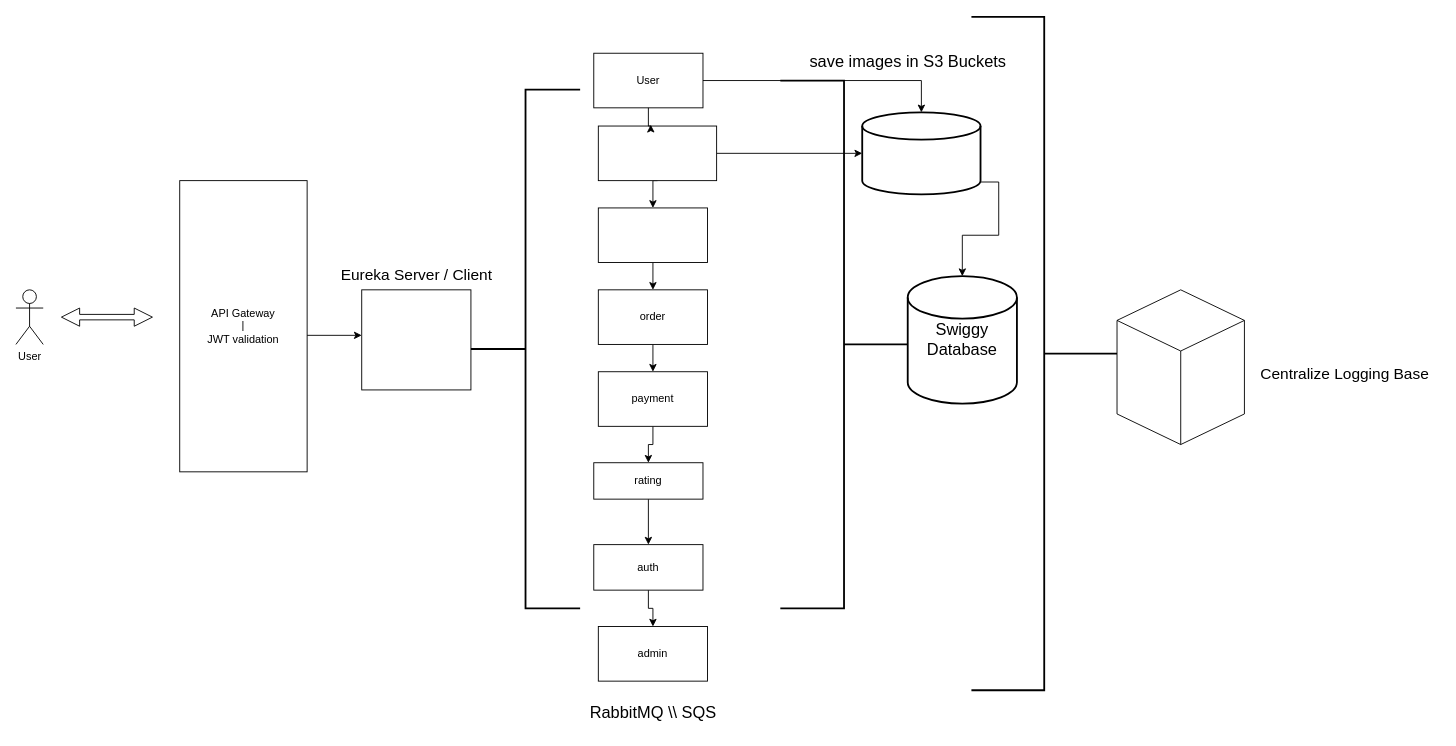
The diagram is 1456 pixels wide and 746 high, and some of its shapes have lost their labels. The shapes that lost their labels are listed below. From the top down, each one's centre as x and y in pixels, then its label:
At [657,153]: "Restaurant".
At [921,153]: "S3".
At [652,235]: "cart".
At [416,339]: "Service Registry".
At [1180,367]: "ELK".
